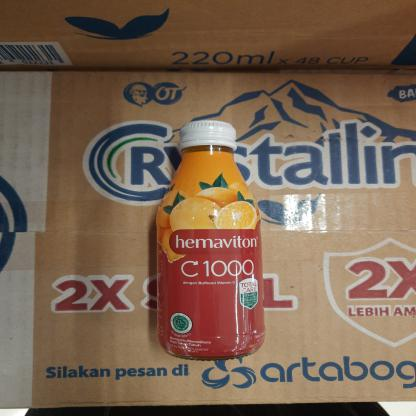keyboard: (148, 116, 265, 359)
